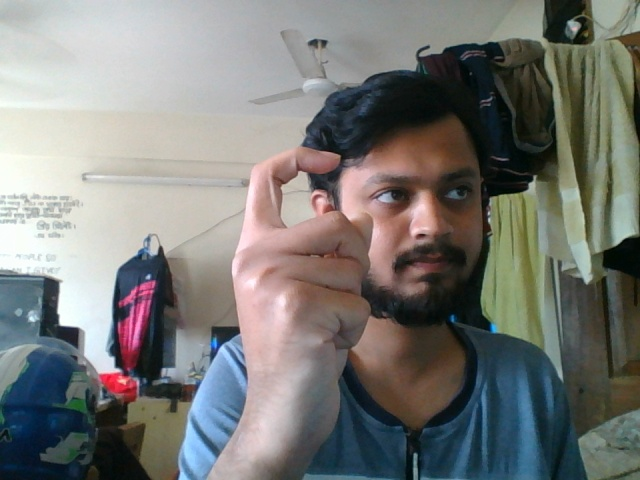e: (221, 137, 378, 461)
